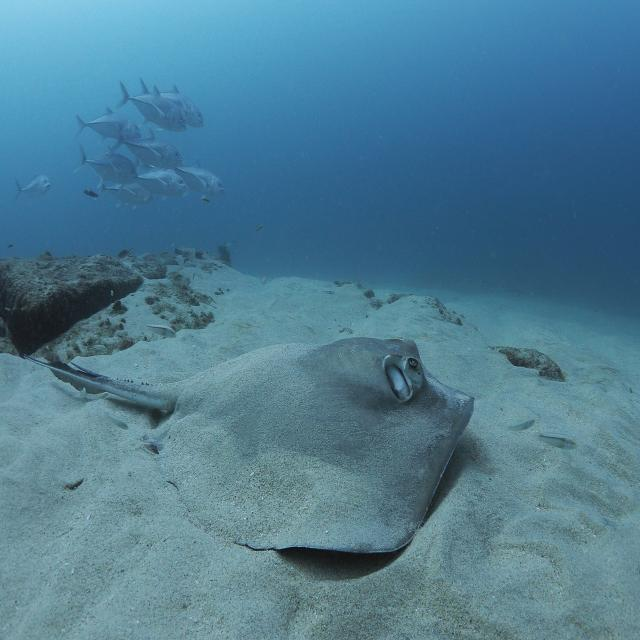stingray: (24, 337, 474, 553)
